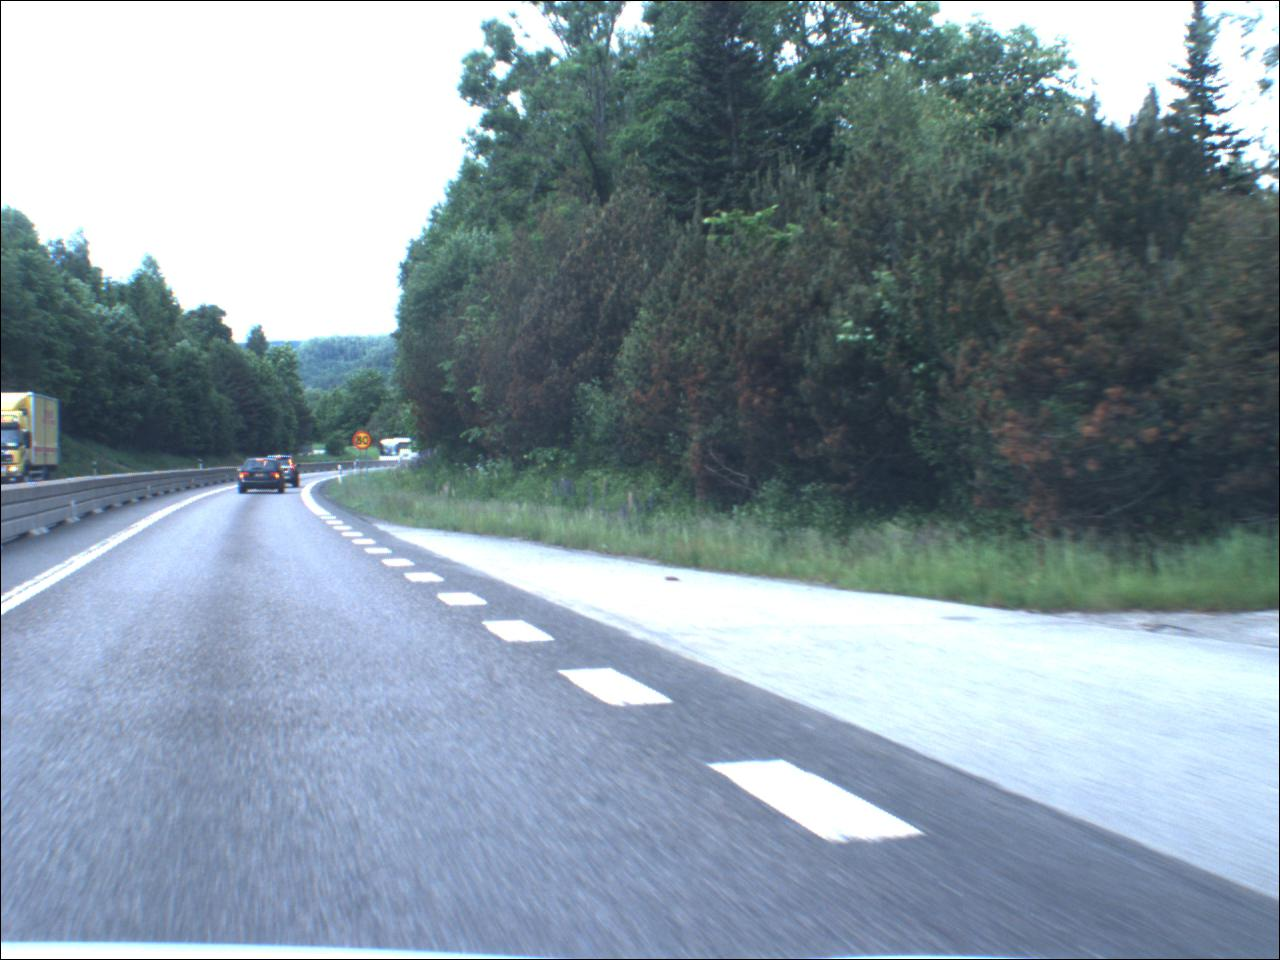80_SIGN: (354, 431, 374, 452)
